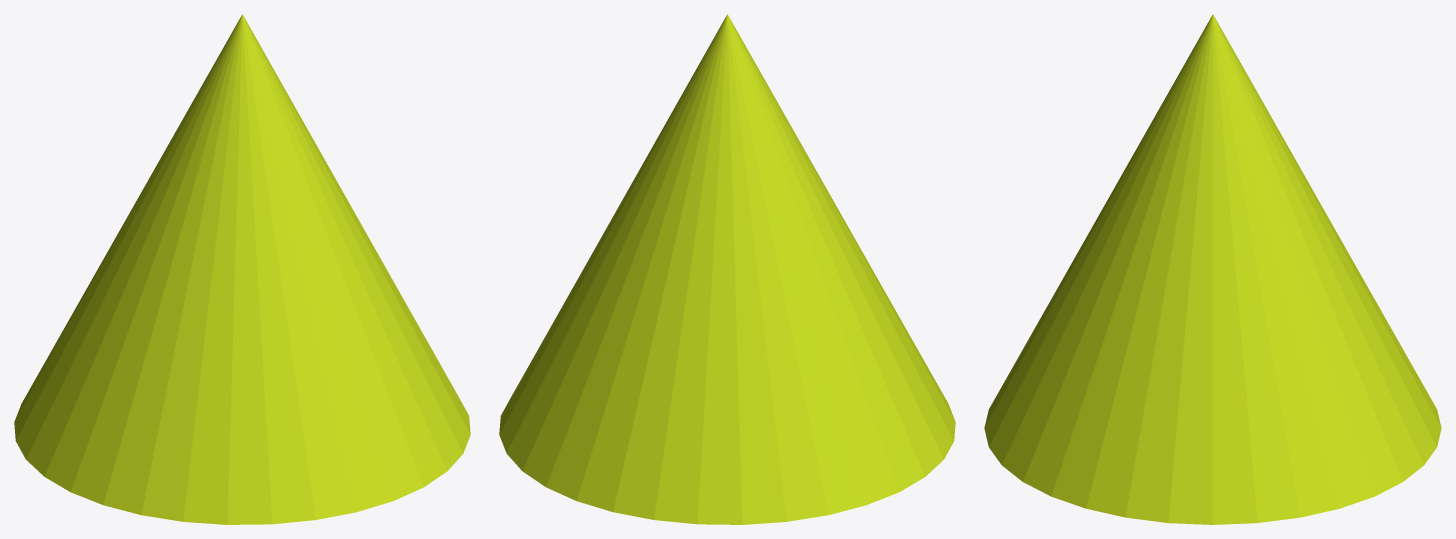
File: davidSphereC1.gltf
3 renders of one model, left to right at view 1: azimuth 30°, elevation 25°; view 2: azimuth 150°, elevation 25°; view 3: azimuth 270°, elevation 25°, orthographic.
Parts seen in each view (by area): view 1: davidSphereC1; view 2: davidSphereC1; view 3: davidSphereC1.
Part boxes in pixels (left/top/right/bottom): davidSphereC1: left=14, top=14, right=470, bottom=524; davidSphereC1: left=499, top=14, right=955, bottom=524; davidSphereC1: left=984, top=14, right=1441, bottom=524.
Bounding box in the file's own units: 0.7338 × 0.7338 × 0.7338.
